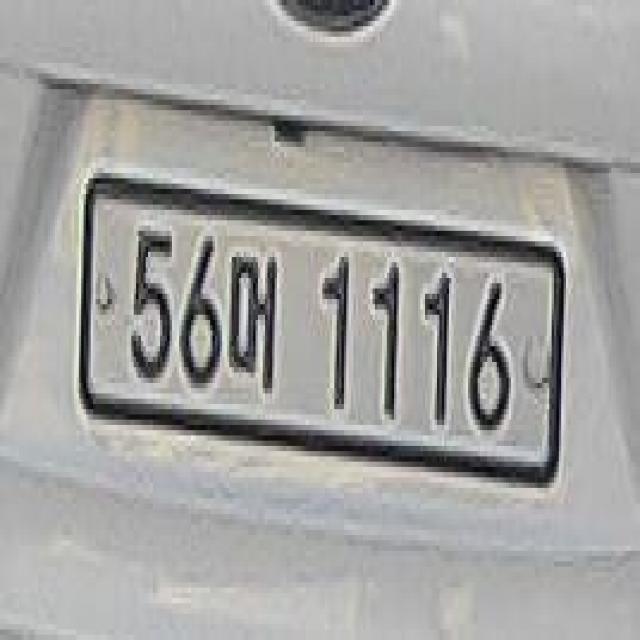1: (363, 248, 406, 423), (415, 255, 457, 424), (316, 243, 356, 418)
5: (126, 219, 174, 388)
6: (466, 260, 514, 438), (177, 220, 223, 392)
license_plate: (68, 151, 575, 504)
meo: (225, 221, 283, 396)
